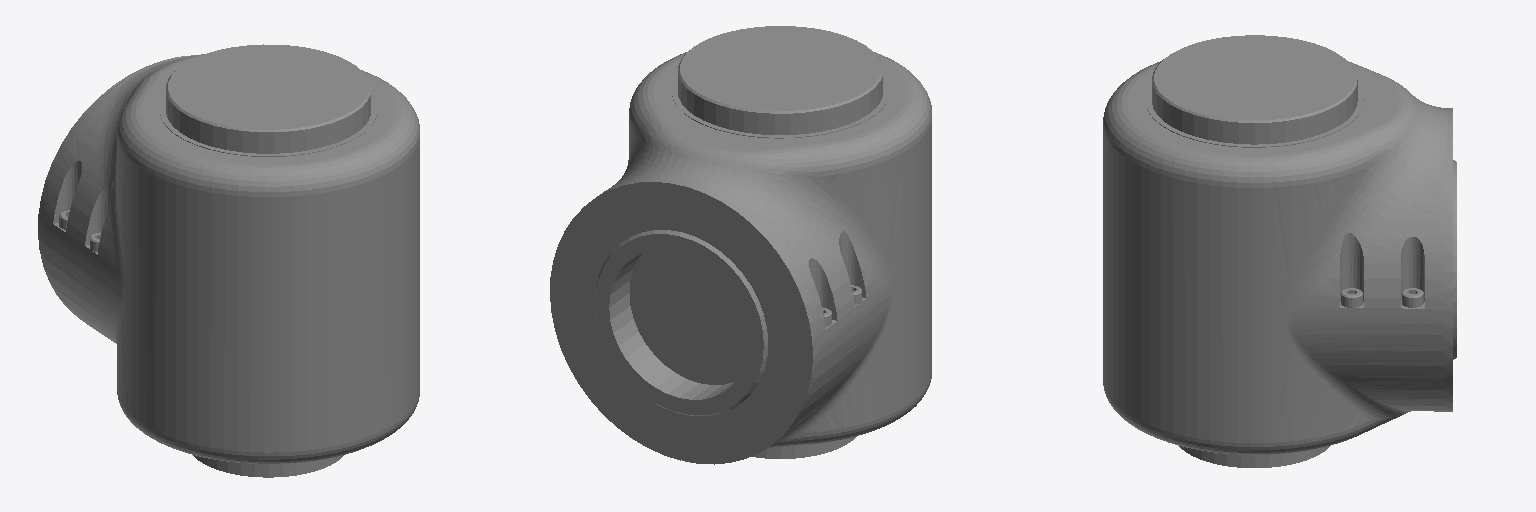
3 views of the same model, side by side, from view 1: azimuth 30°, elevation 25°; view 2: azimuth 150°, elevation 25°; view 3: azimuth 270°, elevation 25° (orthographic).
Visible parts, largest first — view 1: AR5-5_07L-W4S4A1-ZY_link5; view 2: AR5-5_07L-W4S4A1-ZY_link5; view 3: AR5-5_07L-W4S4A1-ZY_link5.
Boxes of the visible parts, box(x1,y1,x2,y2) form: AR5-5_07L-W4S4A1-ZY_link5: box(38, 44, 419, 477); AR5-5_07L-W4S4A1-ZY_link5: box(550, 26, 931, 464); AR5-5_07L-W4S4A1-ZY_link5: box(1103, 35, 1456, 467).
Bounding box in the file's own units: 0.075 × 0.097 × 0.0875.